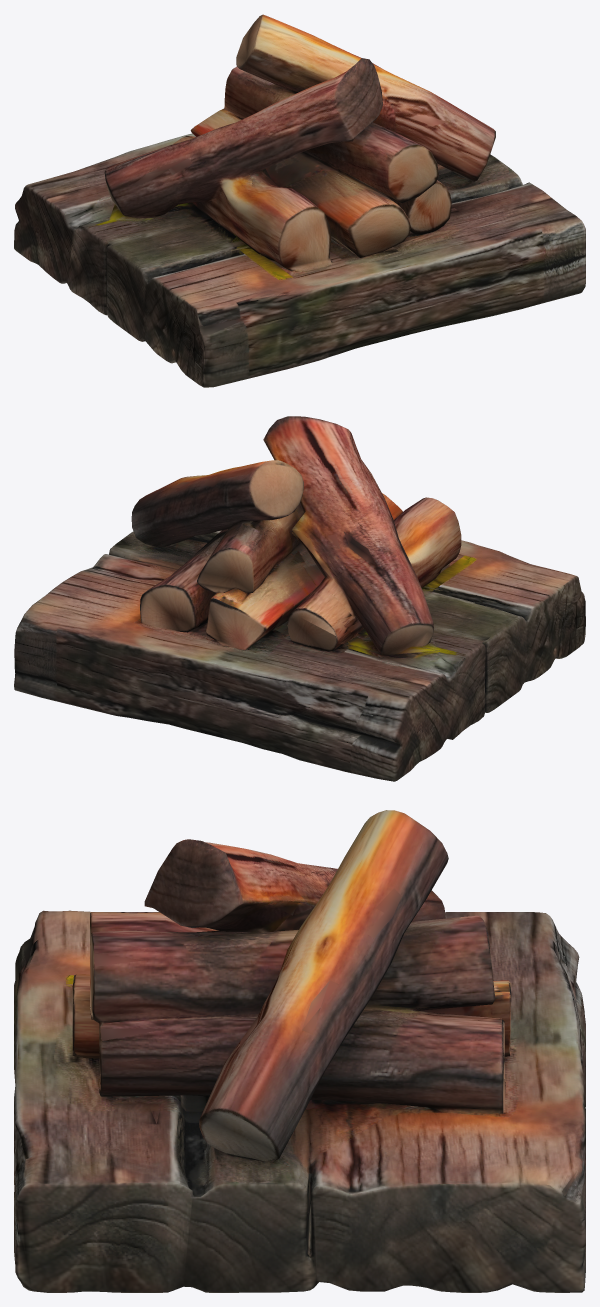
Rendered from SM_Sot_Firewood_Meshy.fbx.
3 views of the same model, one above another, from view 1: azimuth 30°, elevation 25°; view 2: azimuth 150°, elevation 25°; view 3: azimuth 270°, elevation 25° (orthographic). The views are drawn at different scales.
Parts seen in each view (by area): view 1: Mesh_0; view 2: Mesh_0; view 3: Mesh_0.
Part boxes in pixels (x1,y1,x2,y2): Mesh_0: (14, 14, 585, 387); Mesh_0: (14, 416, 585, 781); Mesh_0: (14, 810, 585, 1292).
Size of the model in its own units: 42.87 by 25 by 37.76.
Materials: 1 (1 with a texture image).
